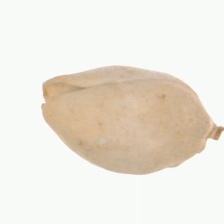L1: (40, 77, 78, 119), (203, 114, 224, 149)
L2: (40, 65, 224, 176)
